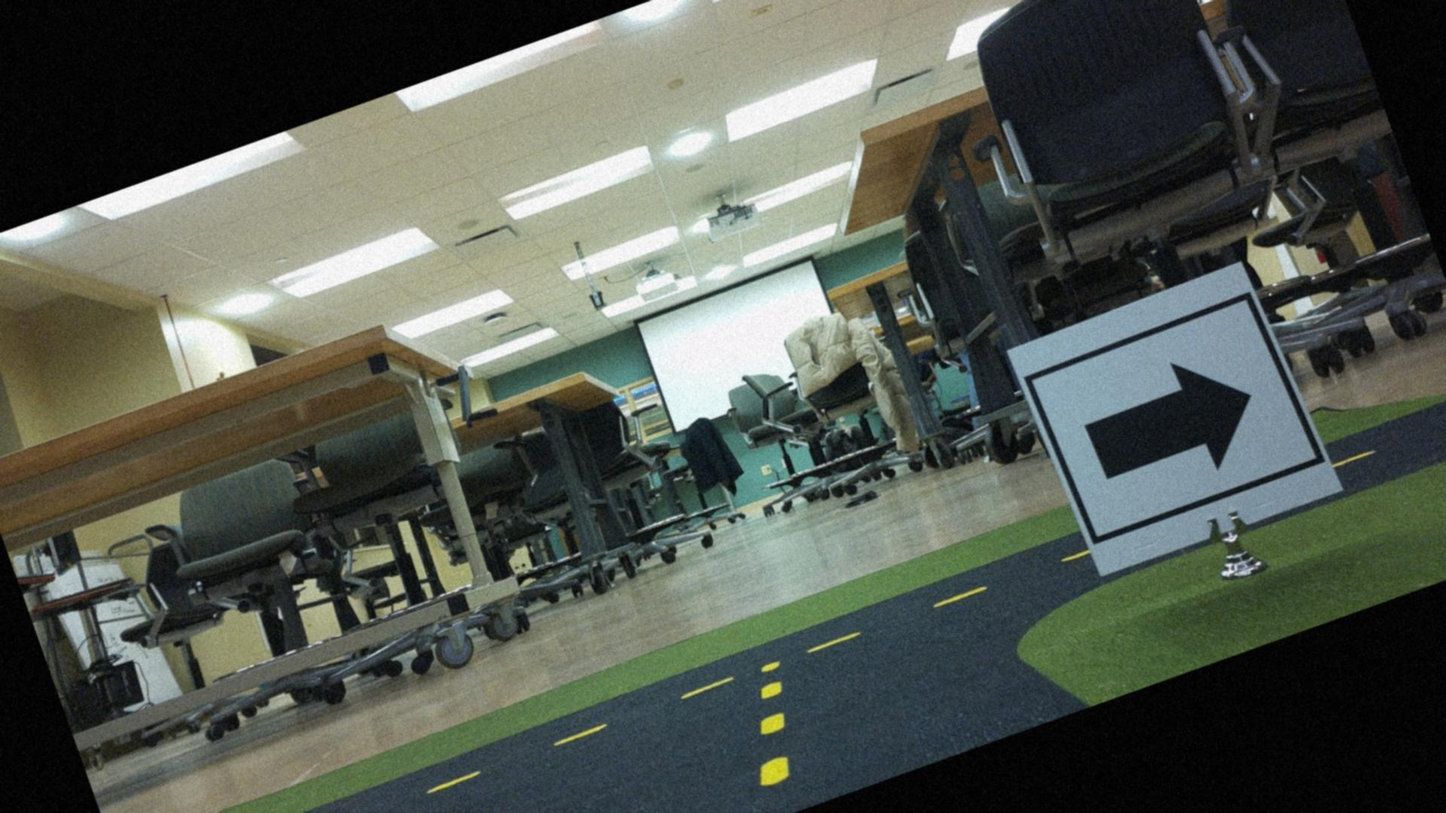turnleft: (1015, 265, 1326, 564)
yellowline: (166, 551, 1078, 812), (730, 676, 815, 791)
